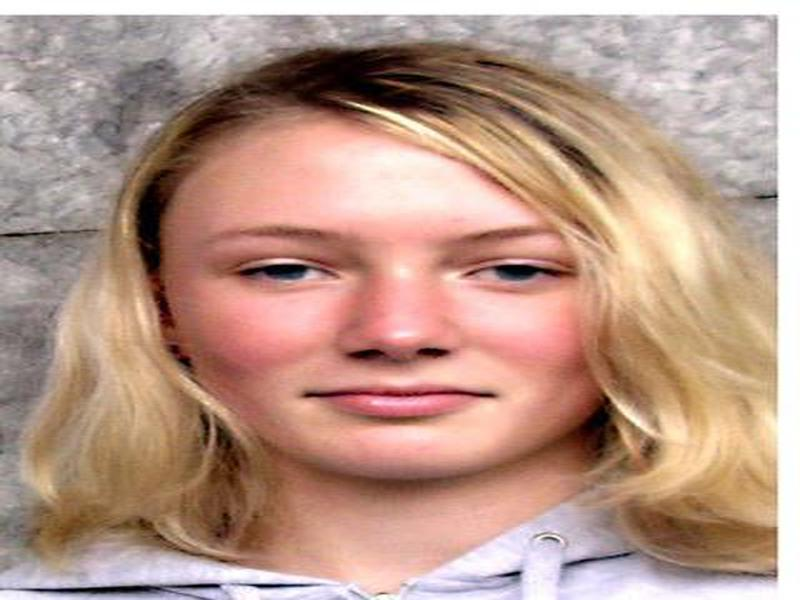without_mask: (153, 163, 610, 485)
